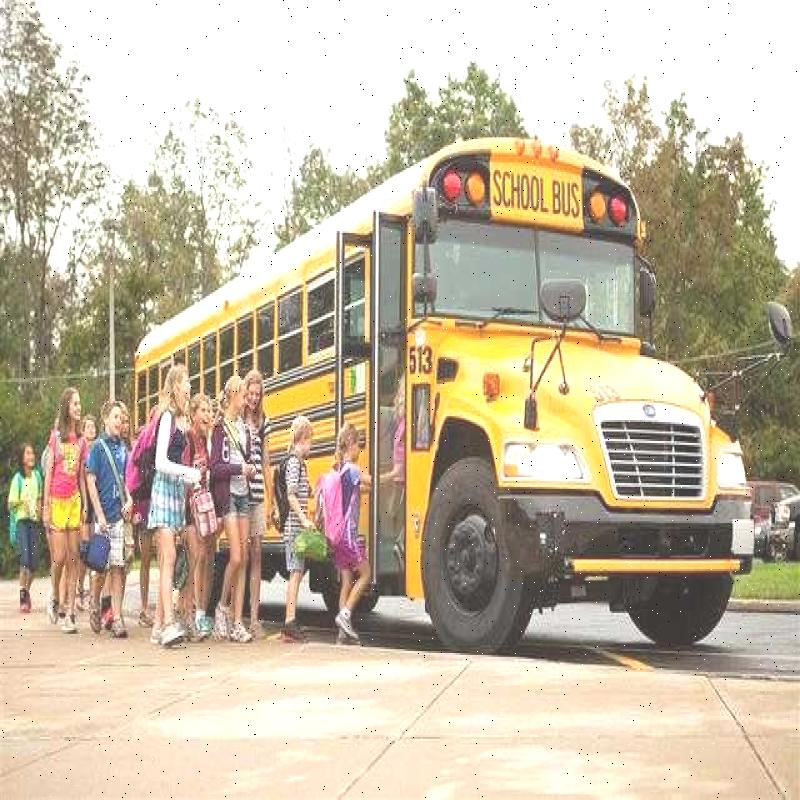bus: (113, 98, 765, 652)
